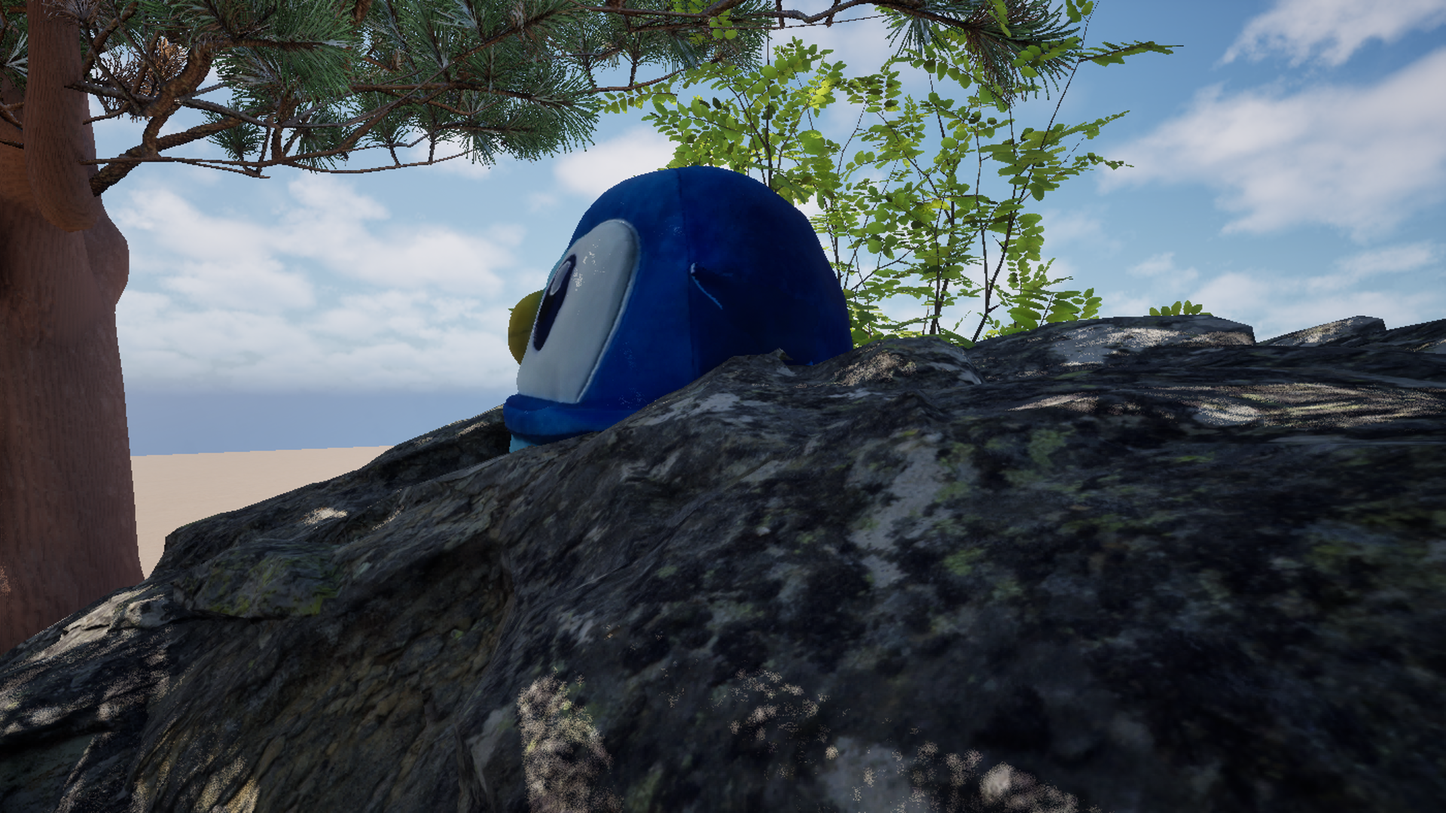Piplup: (255, 0, 1164, 813)
